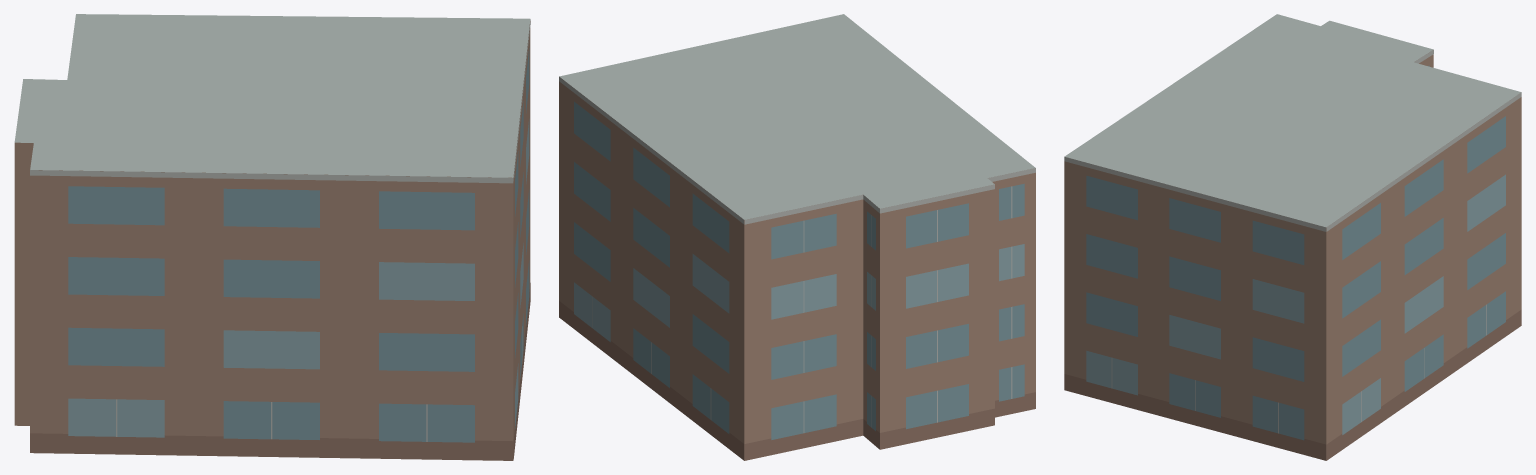
File: survey-upis-32829957.glb
The picture shows the model from 3 angles, left to right: view 1: azimuth 30°, elevation 25°; view 2: azimuth 150°, elevation 25°; view 3: azimuth 270°, elevation 25°; orthographic projection. The views are drawn at different scales.
Visible parts, largest first — view 1: survey-upis-32829957.tmp; view 2: survey-upis-32829957.tmp; view 3: survey-upis-32829957.tmp.
Part boxes in pixels (x1=…): survey-upis-32829957.tmp: x1=14, y1=14, x2=530, y2=460; survey-upis-32829957.tmp: x1=559, y1=14, x2=1035, y2=460; survey-upis-32829957.tmp: x1=1064, y1=14, x2=1521, y2=460.
Bounding box in the file's own units: 24.32 × 12.4 × 22.02.
